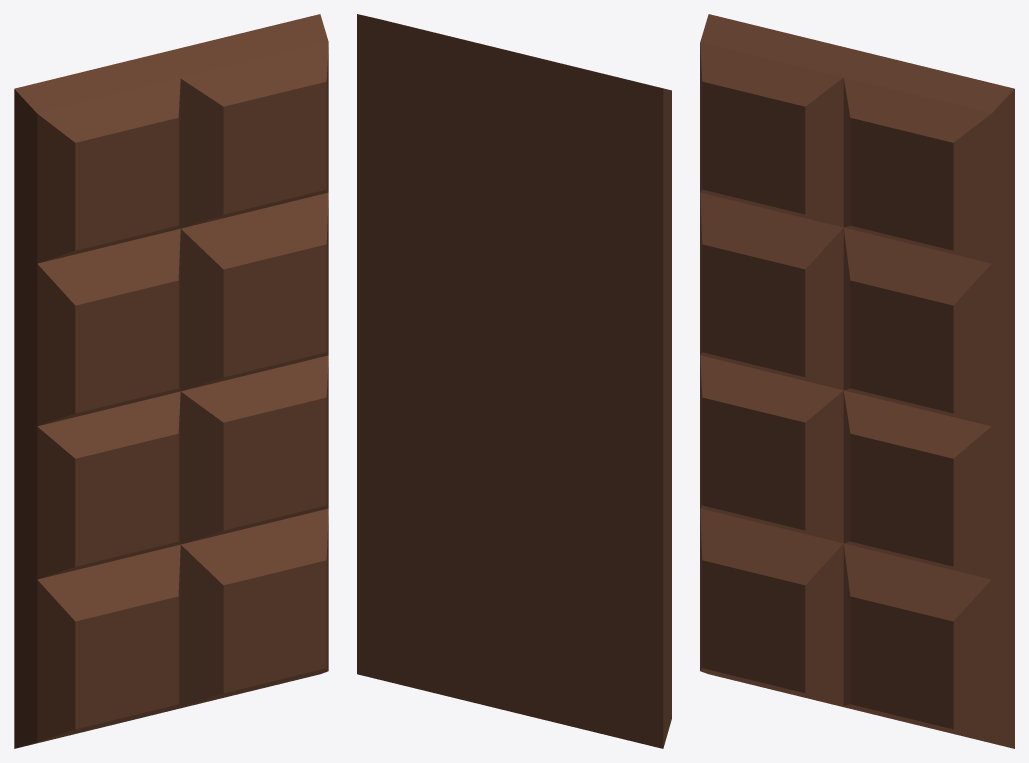
The model's file is Chocolate.fbx.
3 renders of one model, left to right at view 1: azimuth 30°, elevation 25°; view 2: azimuth 150°, elevation 25°; view 3: azimuth 330°, elevation 25°, orthographic.
Parts seen in each view (by area): view 1: chocolate bar; view 2: chocolate bar; view 3: chocolate bar.
Part boxes in pixels (<box>): chocolate bar: <box>14,14,328,748</box>; chocolate bar: <box>357,14,671,748</box>; chocolate bar: <box>700,14,1014,748</box>.
Size of the model in its own units: 17.07 by 35.17 by 3.26.
